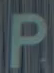Parking: (4, 3, 48, 68)
